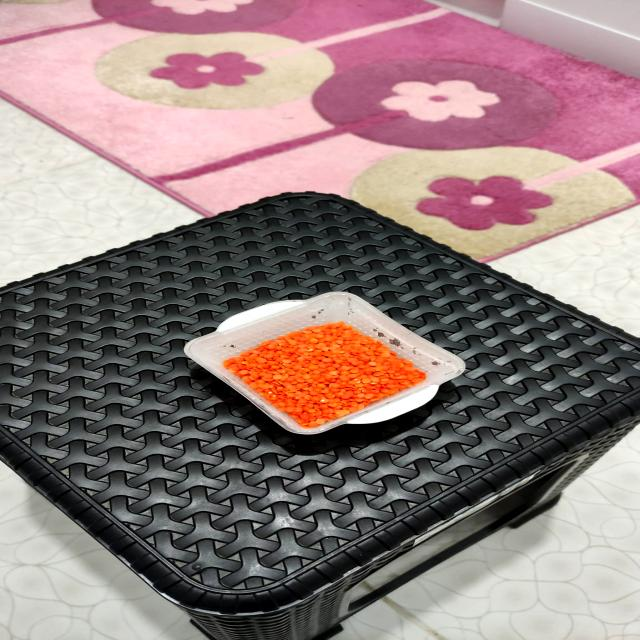red lentils: (174, 287, 479, 438)
